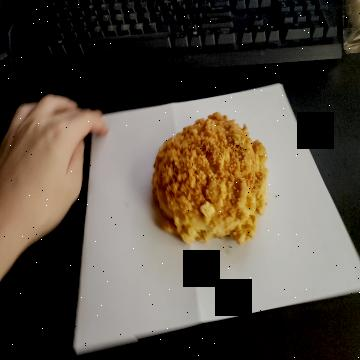soboru_bread: (153, 107, 265, 250)
